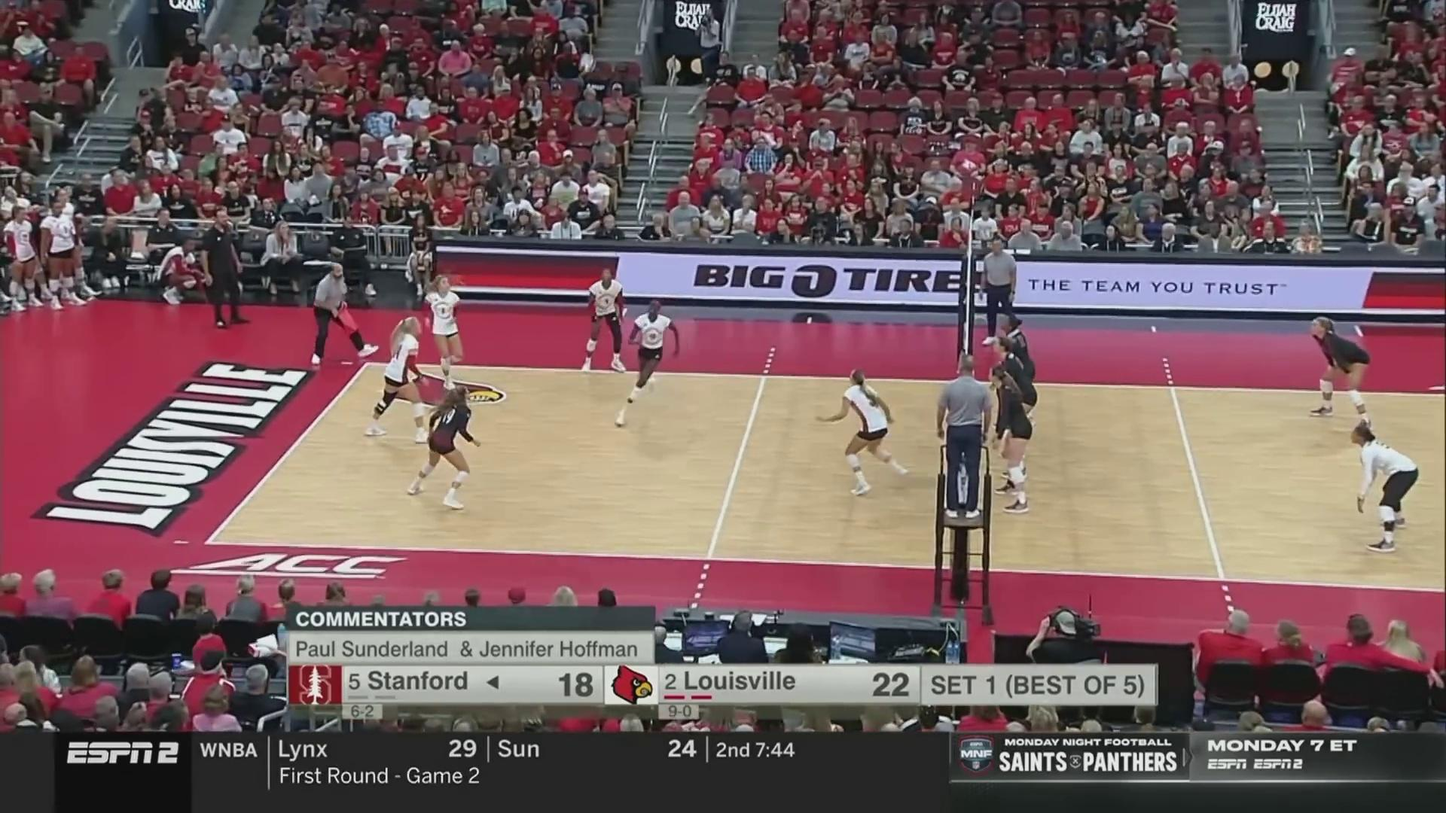player: (816, 369, 909, 496), (408, 381, 482, 512), (366, 317, 436, 442), (1352, 428, 1420, 555), (617, 303, 680, 431), (1308, 317, 1371, 430), (989, 364, 1033, 515), (992, 339, 1038, 477), (422, 277, 466, 394), (996, 313, 1036, 434), (585, 268, 625, 373)
refree: (938, 361, 993, 518), (308, 264, 381, 368), (978, 239, 1019, 344)
